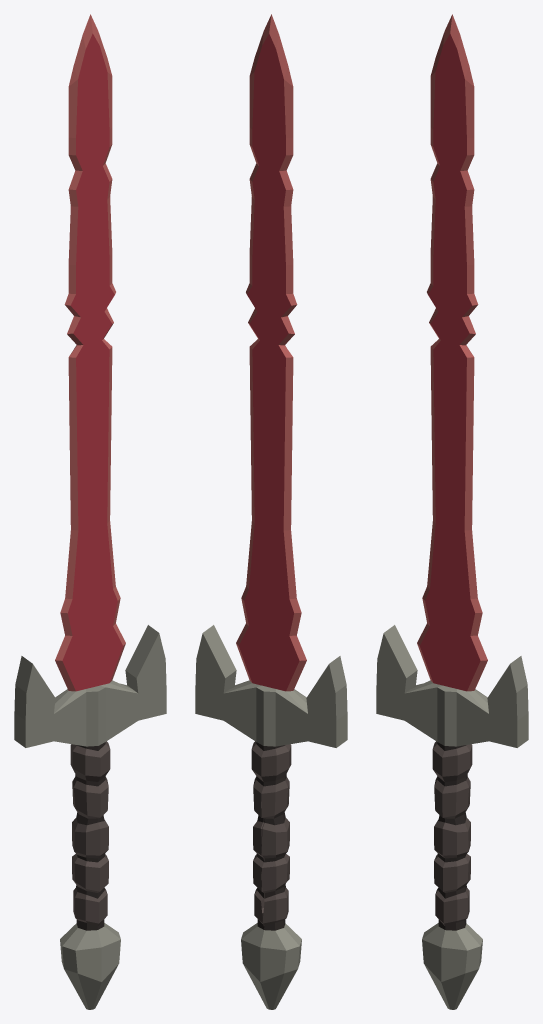
File: claymore.glb
3 views of the same model, side by side, from view 1: azimuth 30°, elevation 25°; view 2: azimuth 150°, elevation 25°; view 3: azimuth 330°, elevation 25° (orthographic).
Parts seen in each view (by area): view 1: Claymore; view 2: Claymore; view 3: Claymore.
Boxes of the visible parts, <box> form: Claymore: <box>14,14,166,1009</box>; Claymore: <box>195,14,347,1009</box>; Claymore: <box>376,14,528,1009</box>.
Bounding box in the file's own units: 0.9779 × 6.59 × 0.2713.
